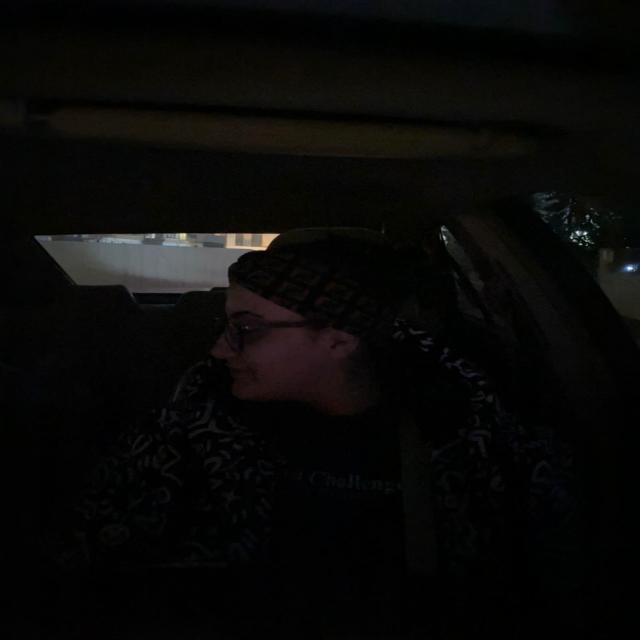LeftRight: (198, 242, 424, 406)
